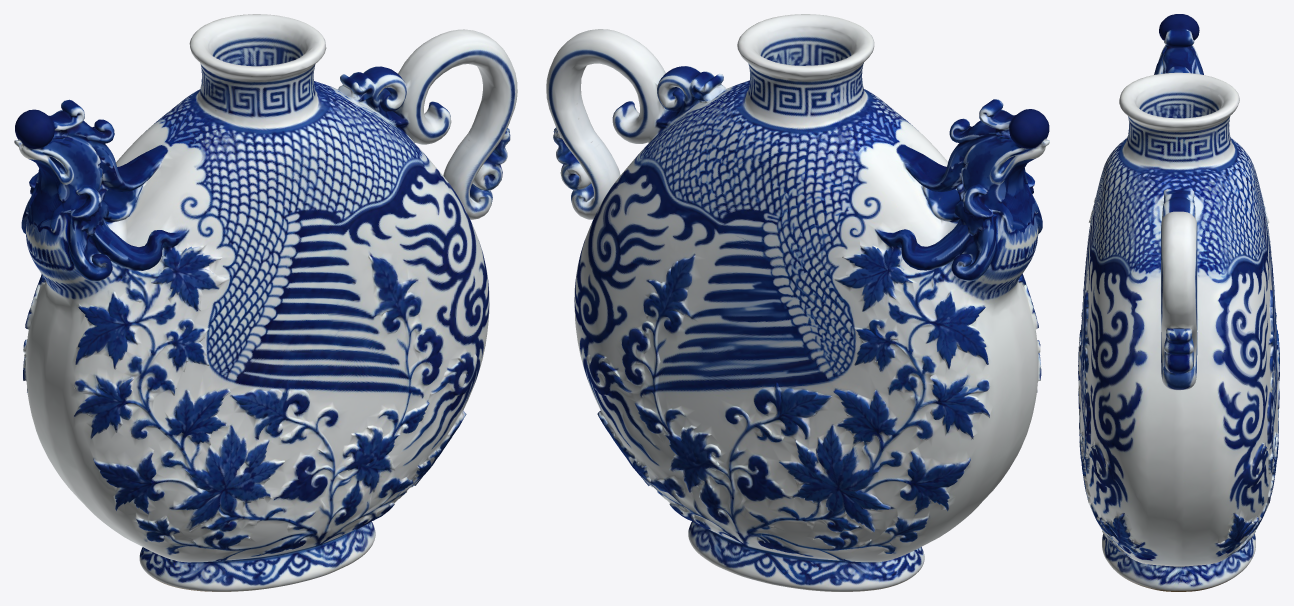
File: assets__models__resin-2.glb
3 views of the same model, side by side, from view 1: azimuth 30°, elevation 25°; view 2: azimuth 150°, elevation 25°; view 3: azimuth 270°, elevation 25° (orthographic). The views are drawn at different scales.
Visible parts, largest first — view 1: tripo_node_1c8973c4-3962-44e6-b04b-245f9861d598; view 2: tripo_node_1c8973c4-3962-44e6-b04b-245f9861d598; view 3: tripo_node_1c8973c4-3962-44e6-b04b-245f9861d598.
Part boxes in pixels (x1,y1,x2,y2): tripo_node_1c8973c4-3962-44e6-b04b-245f9861d598: [14, 14, 517, 591]; tripo_node_1c8973c4-3962-44e6-b04b-245f9861d598: [546, 14, 1049, 591]; tripo_node_1c8973c4-3962-44e6-b04b-245f9861d598: [1078, 14, 1279, 591].
Bounding box in the file's own units: 0.9794 × 0.9627 × 0.3907.
1 material, 1 textured.
